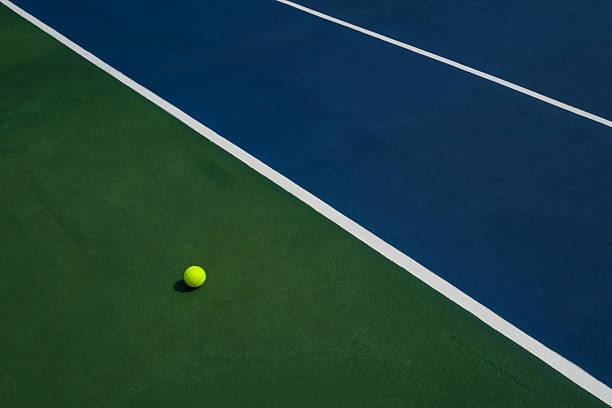ball_tennis: (185, 266, 206, 288)
